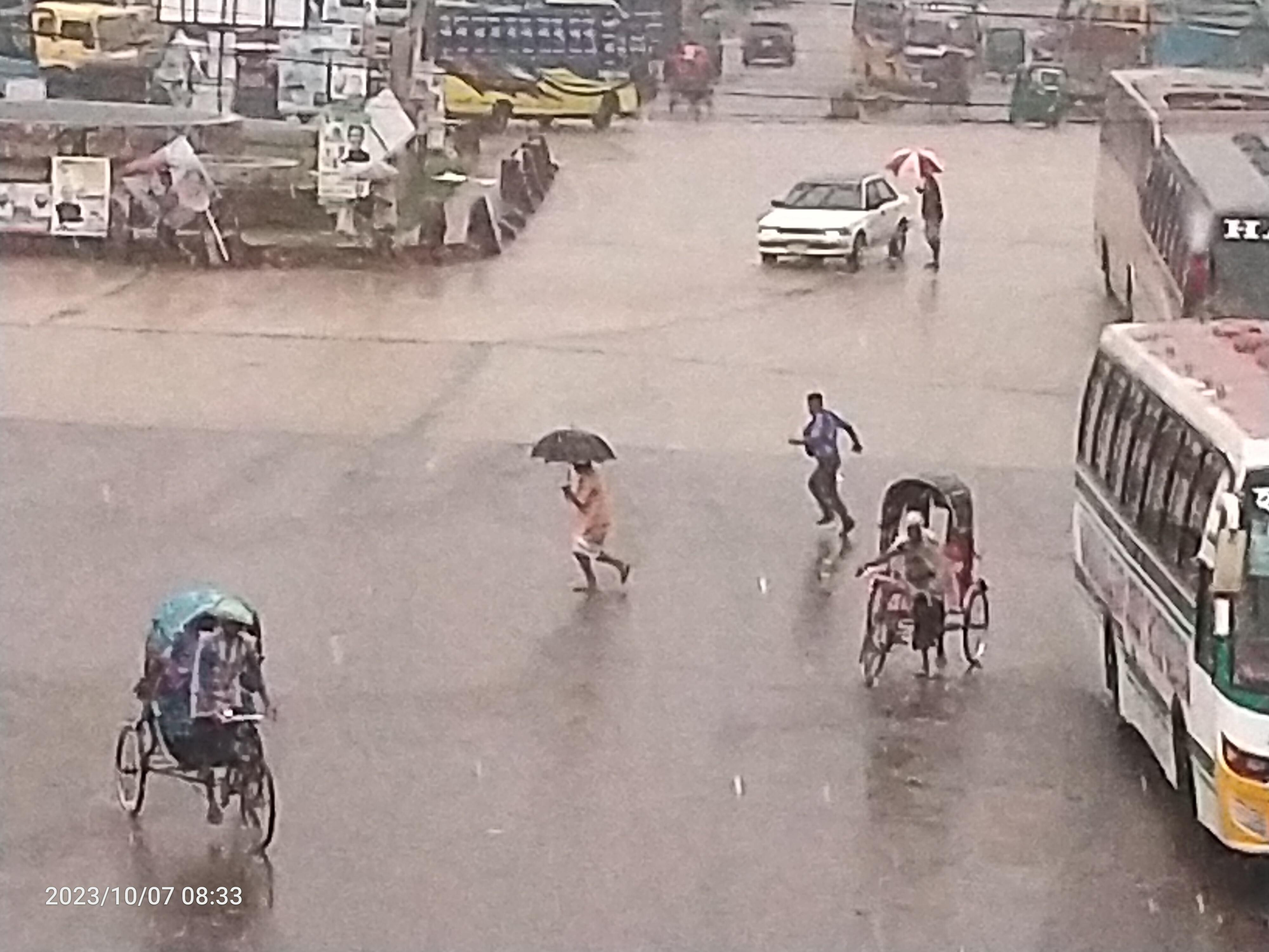Bus: (1049, 291, 1269, 879), (1079, 35, 1269, 346), (391, 0, 653, 148), (835, 0, 986, 109)
Car: (77, 566, 311, 890), (837, 433, 1021, 722), (737, 146, 918, 297), (730, 4, 811, 84)
Truck: (0, 0, 183, 119)
